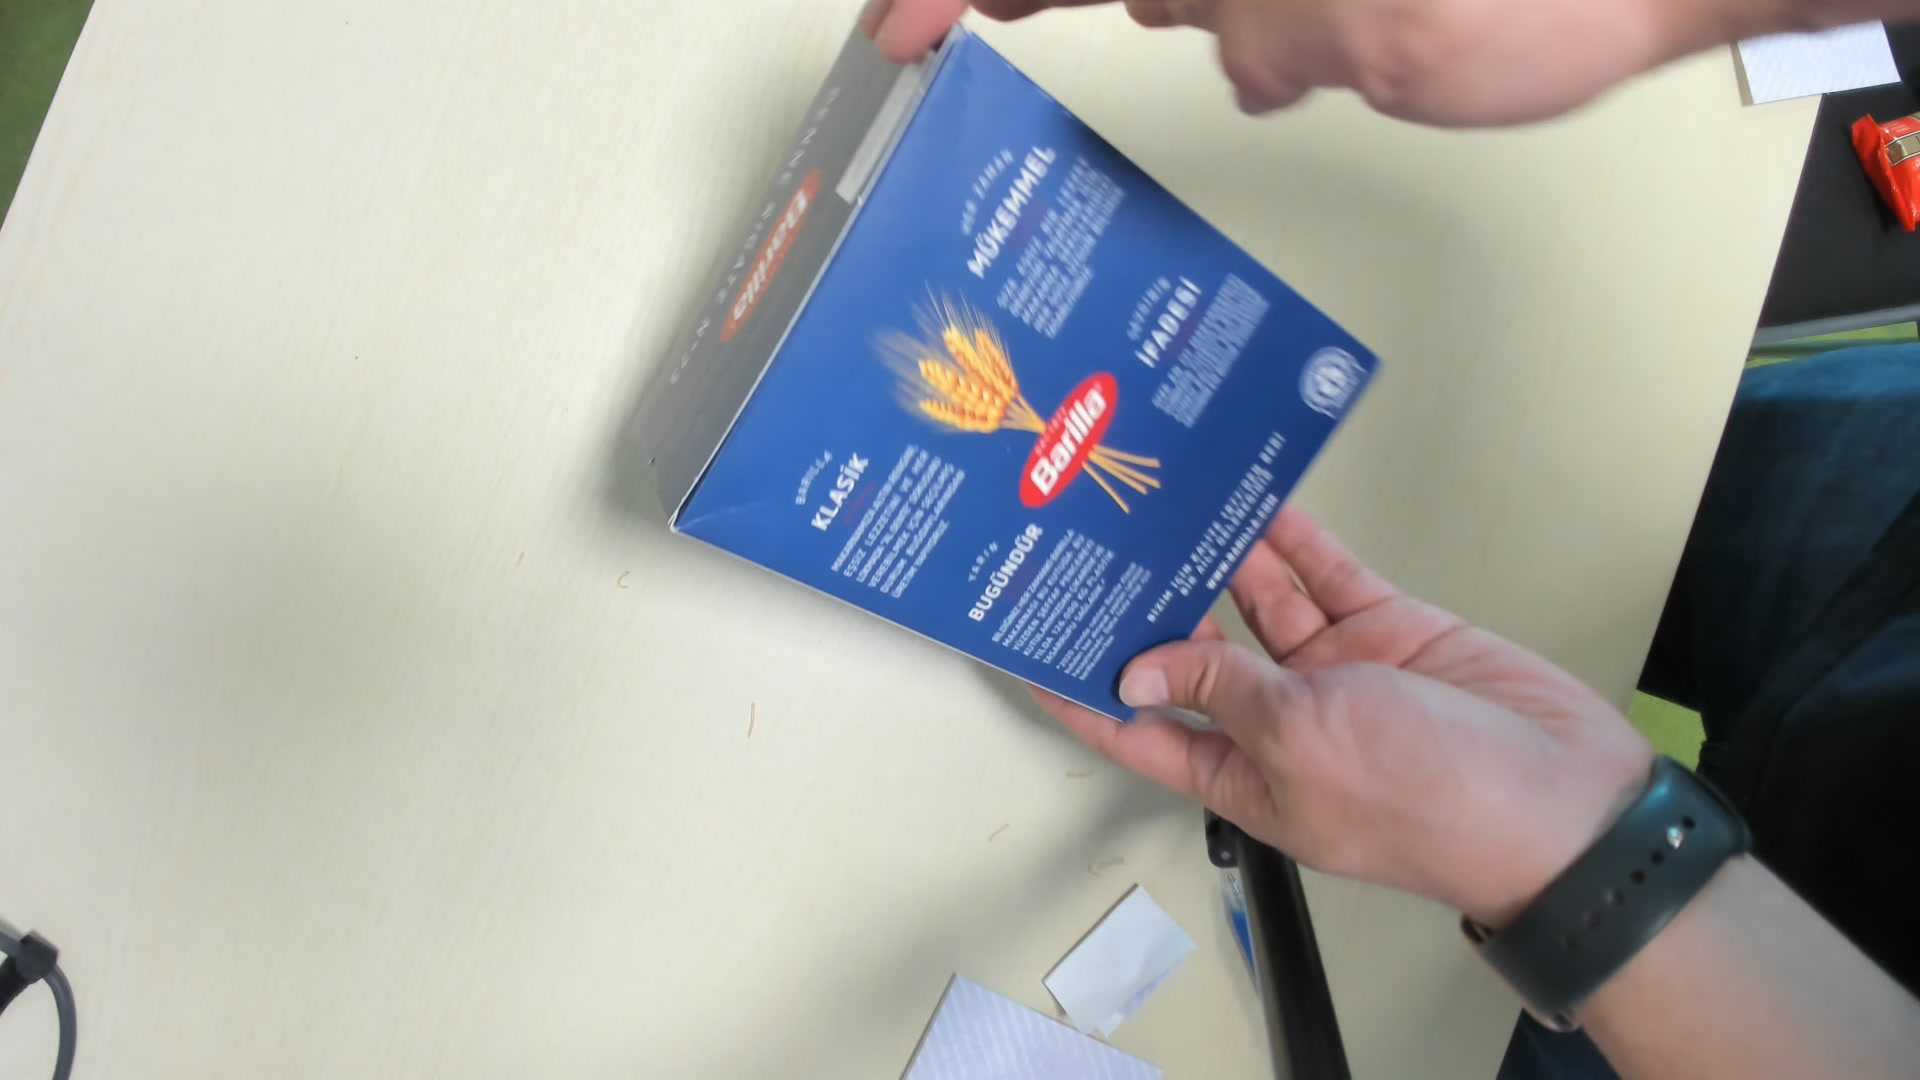Pasta_500-599g_NonHalal_NonHealthy: (633, 7, 1390, 738)
